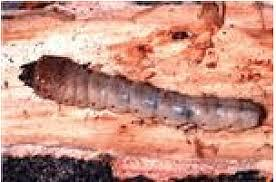Insects: (21, 51, 266, 139)
